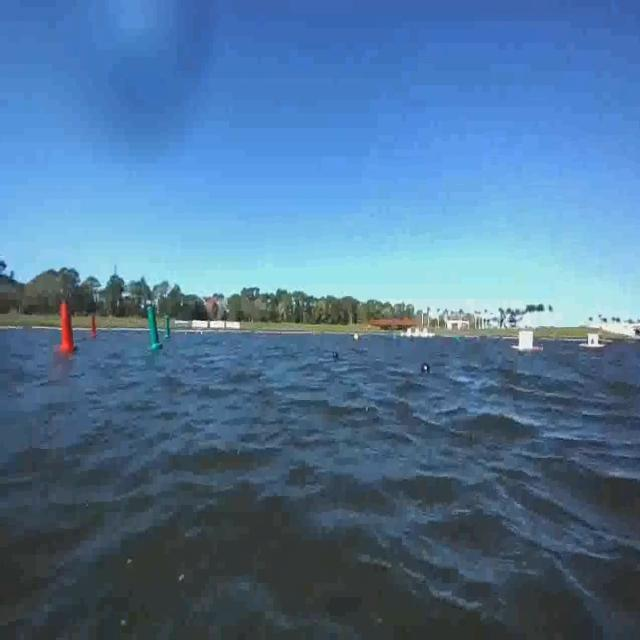black-buoy: (332, 350, 342, 359), (423, 363, 428, 374)
green-column-buoy: (146, 306, 162, 352), (163, 316, 170, 343)
red-column-buoy: (60, 302, 78, 353), (91, 314, 99, 336)
yellow-buoy: (354, 333, 361, 345)
